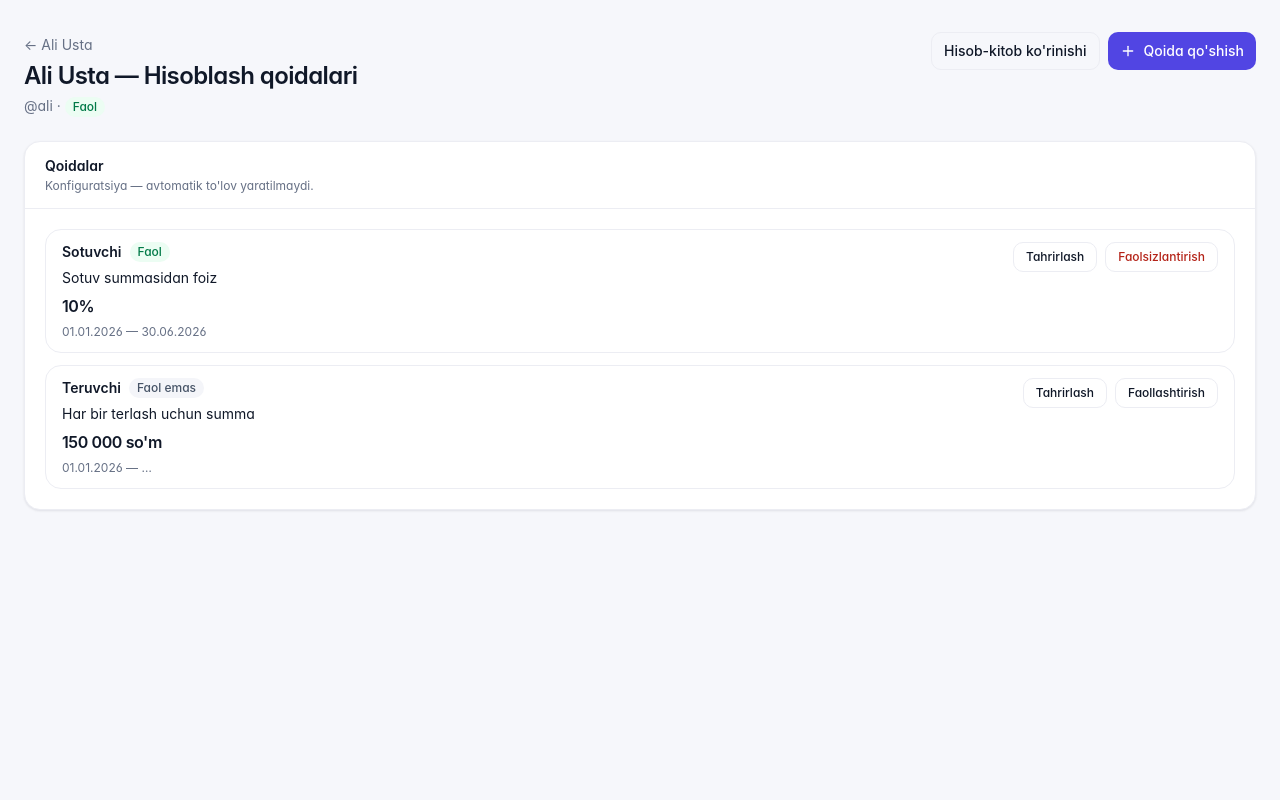
WorkerCompensationPage › opens create dialog and filters responsibilities to worker assignments
Step 1. Click the button "Qoida qo'shish" → click(1182, 51), box [1108,32,1256,70]
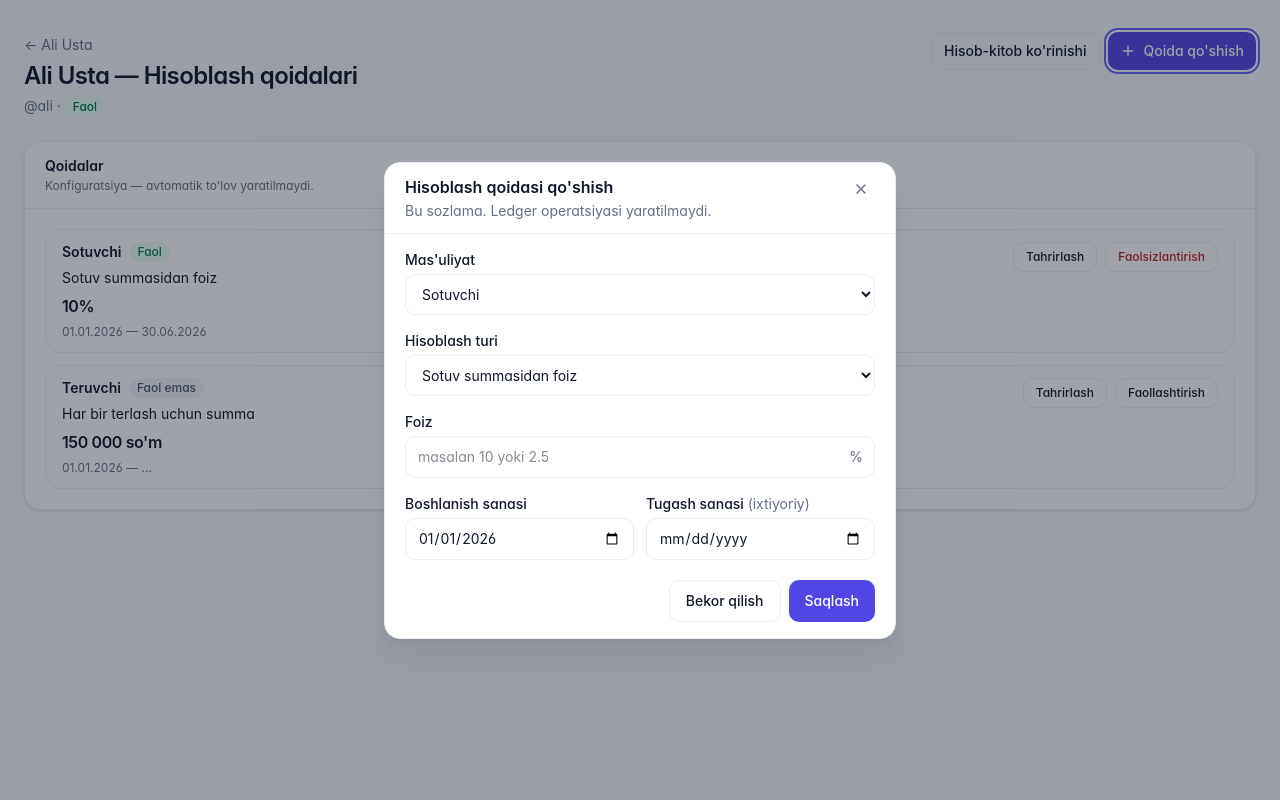
expect the heading "Hisoblash qoidasi qo'shish" is shown: met, box [405,176,613,196]
expect the dropdown labelled "Mas'uliyat" shows "Sotuvchi": met, box [405,274,875,314]
expect the date field labelled "Boshlanish sanasi" holds "2026-01-01": met, box [405,518,634,560]
